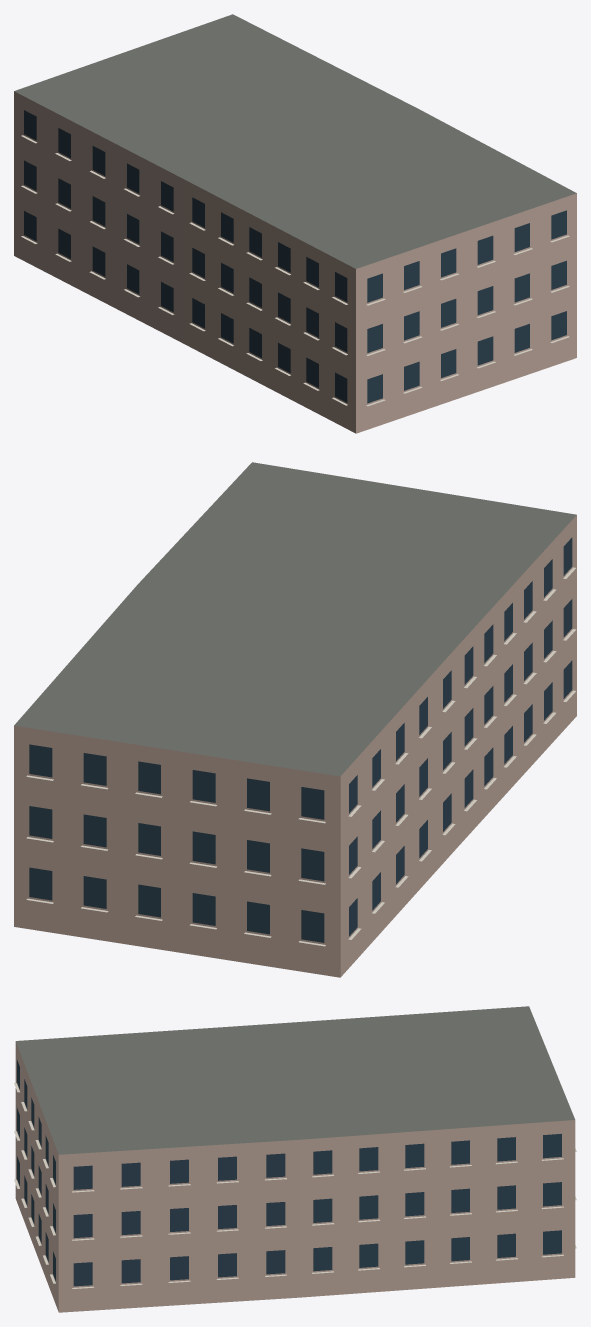
3 renders of one model, top to bottom at view 1: azimuth 30°, elevation 25°; view 2: azimuth 150°, elevation 25°; view 3: azimuth 270°, elevation 25°, orthographic. The views are drawn at different scales.
Parts seen in each view (by area): view 1: Footprint 0, Inferred window bays, Window sills; view 2: Footprint 0, Inferred window bays, Window sills; view 3: Footprint 0, Inferred window bays, Window sills.
Part boxes in pixels (bbox=[...]): Footprint 0: bbox=[14, 14, 576, 433]; Inferred window bays: bbox=[24, 110, 566, 403]; Window sills: bbox=[21, 135, 569, 406]; Footprint 0: bbox=[14, 462, 576, 977]; Inferred window bays: bbox=[29, 537, 572, 942]; Window sills: bbox=[26, 567, 576, 946]; Footprint 0: bbox=[15, 1006, 575, 1312]; Inferred window bays: bbox=[17, 1060, 561, 1286]; Window sills: bbox=[14, 1083, 576, 1288].
Size of the model in its own units: 22.92 by 11.26 by 36.4.
